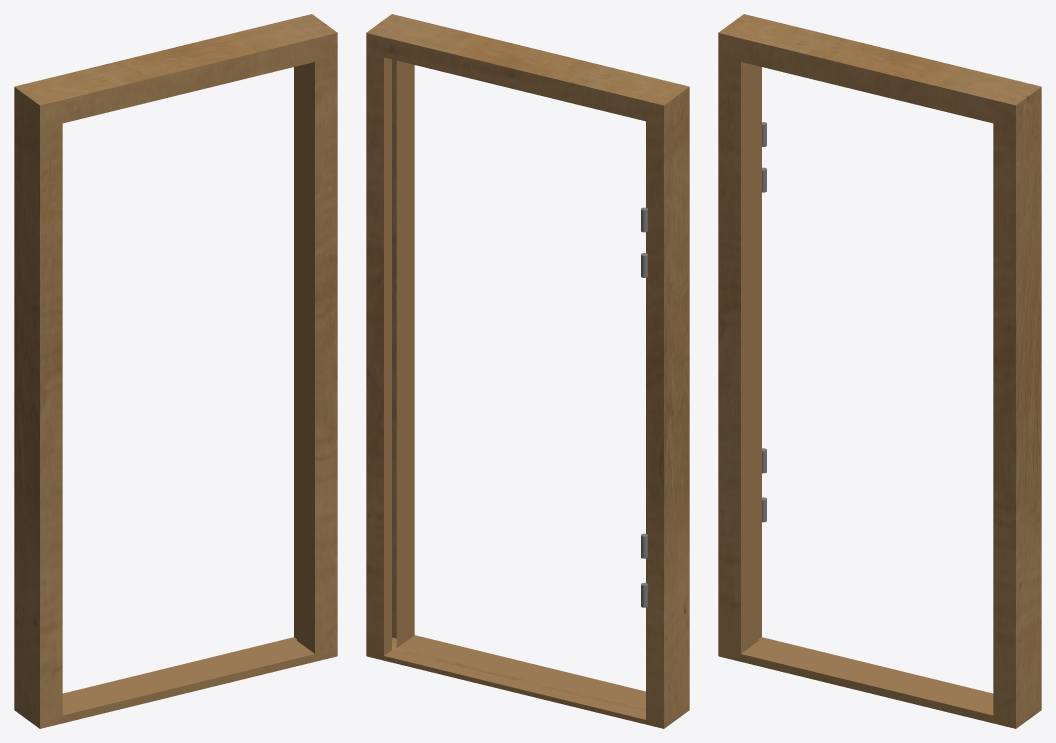
File: door5.dae
3 views of the same model, side by side, from view 1: azimuth 30°, elevation 25°; view 2: azimuth 150°, elevation 25°; view 3: azimuth 330°, elevation 25° (orthographic).
Visible parts, largest first — view 1: Cube; view 2: Cube; view 3: Cube.
Boxes of the visible parts, x1,y1,x2,y2 form: Cube: (14, 14, 337, 728); Cube: (366, 14, 689, 728); Cube: (718, 14, 1041, 728).
Size of the model in its own units: 2 by 0.3407 by 4.
Materials: 2 (1 with a texture image).
